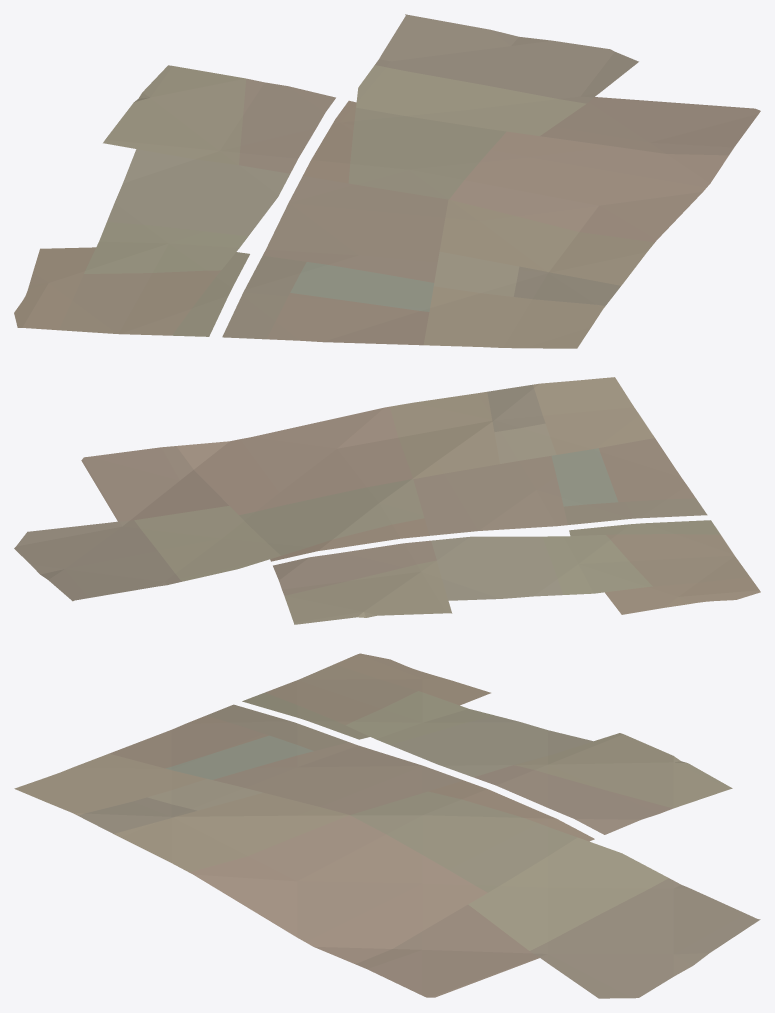
The model's file is farm_-12_-12_soil.glb.
3 views of the same model, one above another, from view 1: azimuth 30°, elevation 25°; view 2: azimuth 150°, elevation 25°; view 3: azimuth 270°, elevation 25° (orthographic). The views are drawn at different scales.
Visible parts, largest first — view 1: geometry_0; view 2: geometry_0; view 3: geometry_0.
Part boxes in pixels (x1,y1,x2,y2): geometry_0: (14, 14, 760, 348); geometry_0: (14, 377, 760, 624); geometry_0: (14, 653, 760, 998).
Size of the model in its own units: 519 by 30.54 by 476.
